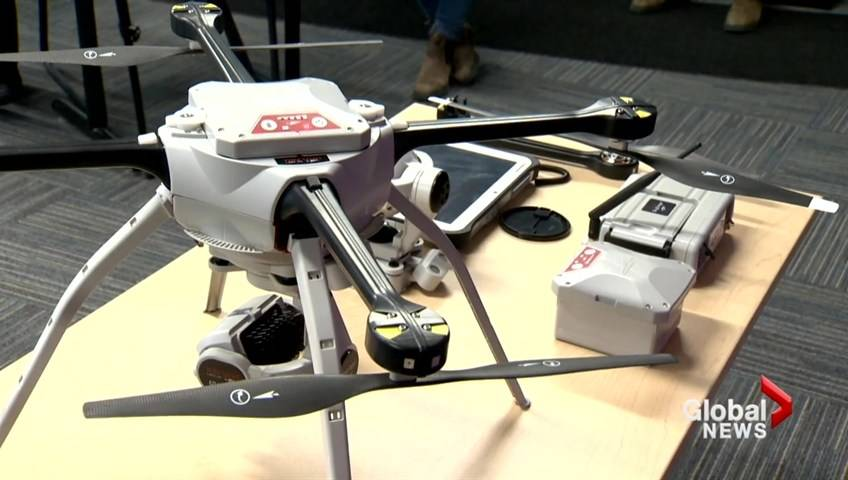drone: (1, 1, 840, 480)
